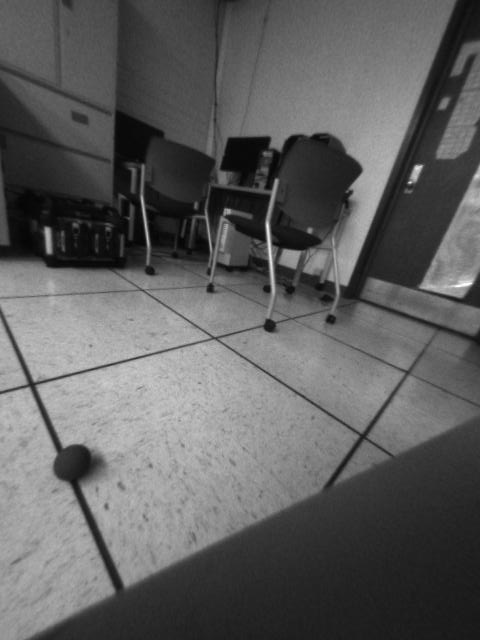dogtoy: (48, 437, 103, 488)
